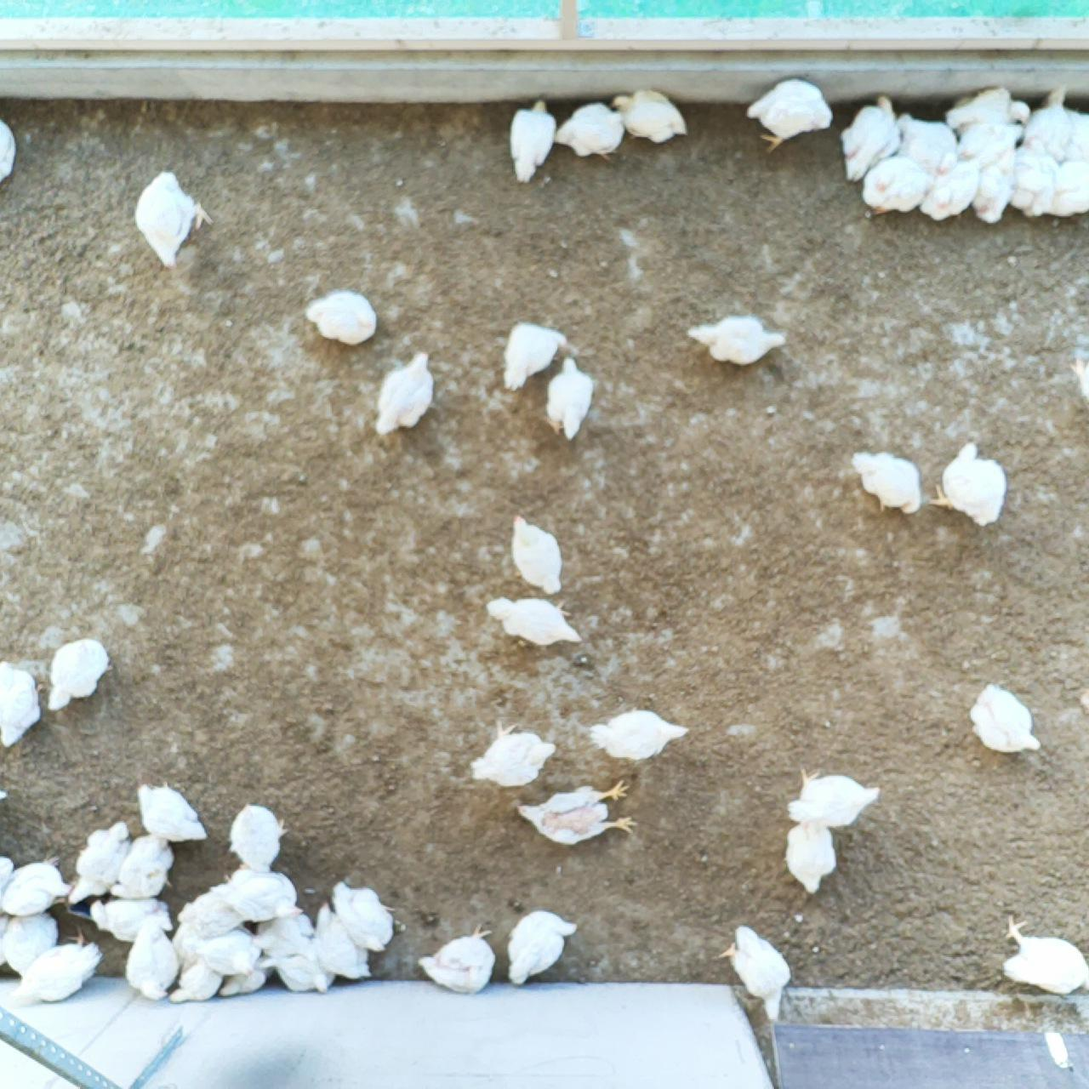chicken: (511, 778, 639, 848), (6, 926, 105, 1010), (996, 910, 1089, 998), (714, 915, 788, 1025), (136, 169, 214, 272), (926, 439, 1007, 529), (741, 77, 833, 151), (967, 682, 1041, 764), (468, 720, 557, 788), (788, 767, 885, 829), (415, 925, 497, 998), (837, 92, 903, 181), (67, 820, 132, 907), (486, 593, 582, 651), (589, 706, 689, 761), (506, 911, 577, 987), (505, 513, 568, 597), (849, 446, 922, 518), (212, 865, 304, 922), (174, 917, 259, 978), (373, 352, 437, 432), (312, 898, 372, 981), (502, 318, 568, 392), (331, 880, 397, 954), (126, 914, 180, 1004), (690, 315, 787, 365), (112, 827, 176, 902), (46, 636, 109, 712), (542, 353, 597, 439), (782, 812, 839, 894), (138, 779, 208, 845), (613, 86, 691, 145), (946, 85, 1032, 138), (86, 894, 176, 944), (6, 853, 74, 919), (860, 155, 929, 219), (305, 288, 378, 347), (228, 801, 288, 872), (919, 154, 981, 222), (892, 108, 955, 174), (555, 103, 627, 160), (511, 94, 557, 183), (1020, 87, 1073, 161), (5, 913, 61, 982), (0, 659, 42, 749), (179, 888, 258, 934), (1003, 143, 1053, 215), (965, 155, 1013, 225), (950, 120, 1023, 165), (169, 948, 226, 1005), (251, 902, 314, 952), (266, 950, 336, 994), (1041, 161, 1089, 217), (1055, 102, 1089, 168), (217, 956, 271, 996), (0, 108, 15, 182), (0, 908, 14, 968), (0, 851, 14, 907)
